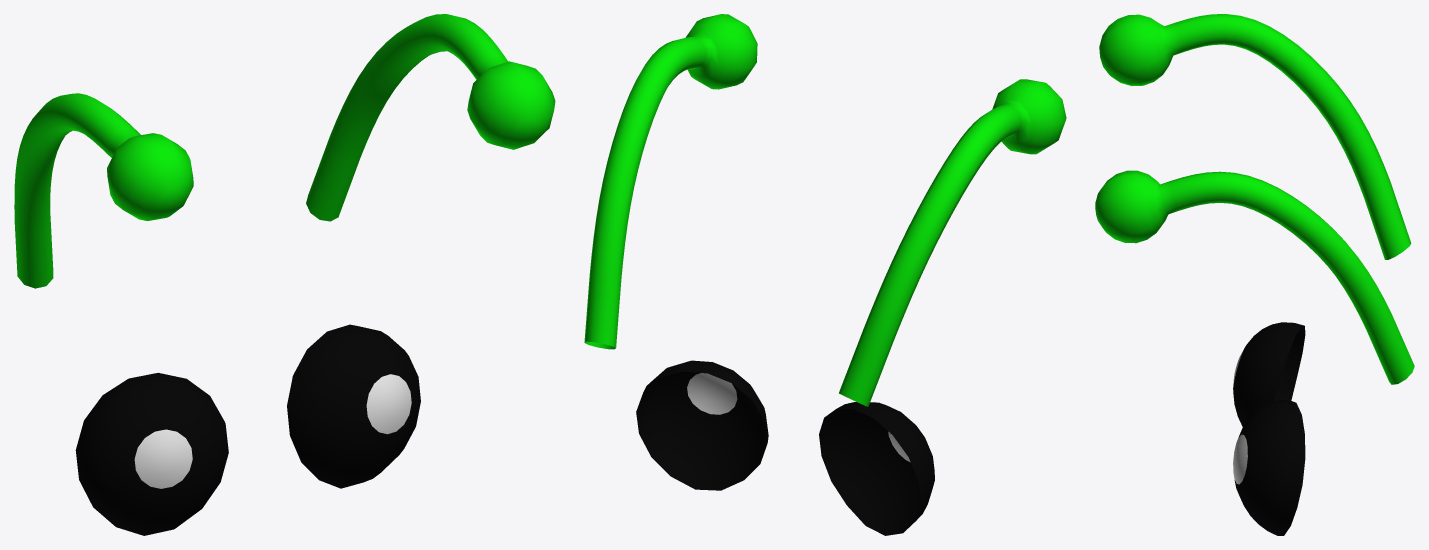
The model's file is uzayli.fbx.
3 views of the same model, side by side, from view 1: azimuth 30°, elevation 25°; view 2: azimuth 150°, elevation 25°; view 3: azimuth 270°, elevation 25° (orthographic). The views are drawn at different scales.
Visible parts, largest first — view 1: gozz, pSphere3, goz, pSphere2; view 2: pSphere3, pSphere2, goz, gozz; view 3: pSphere2, pSphere3, goz, gozz.
Boxes of the visible parts, left/top/right/bottom form: gozz: left=75, top=372, right=228, bottom=535; pSphere3: left=306, top=14, right=555, bottom=221; goz: left=287, top=324, right=420, bottom=488; pSphere2: left=14, top=93, right=193, bottom=288; pSphere3: left=584, top=14, right=757, bottom=349; pSphere2: left=839, top=79, right=1066, bottom=406; goz: left=636, top=360, right=768, bottom=490; gozz: left=819, top=402, right=934, bottom=535; pSphere2: left=1099, top=14, right=1411, bottom=259; pSphere3: left=1095, top=170, right=1414, bottom=384; goz: left=1233, top=400, right=1305, bottom=535; gozz: left=1233, top=322, right=1305, bottom=426.
Bounding box in the file's own units: 51.92 × 54.87 × 40.01.
